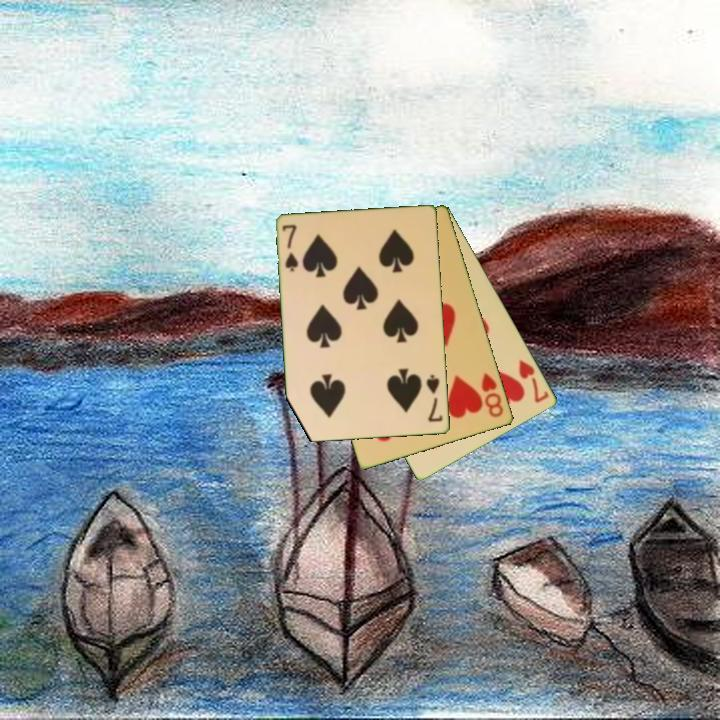7h: (516, 356, 552, 406)
7s: (423, 371, 446, 425), (279, 221, 301, 275)
8h: (478, 369, 506, 420)
